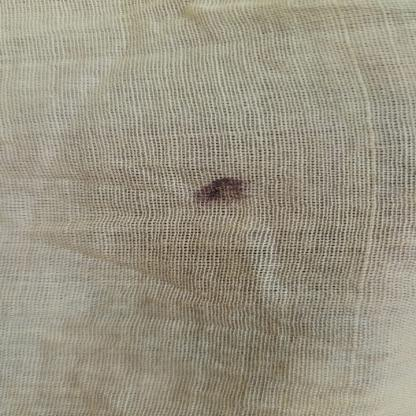spot: (175, 172, 266, 208)
